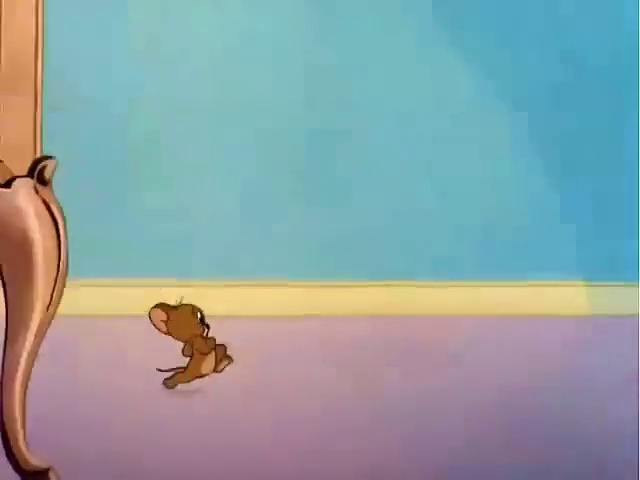jerry: (133, 278, 263, 412)
